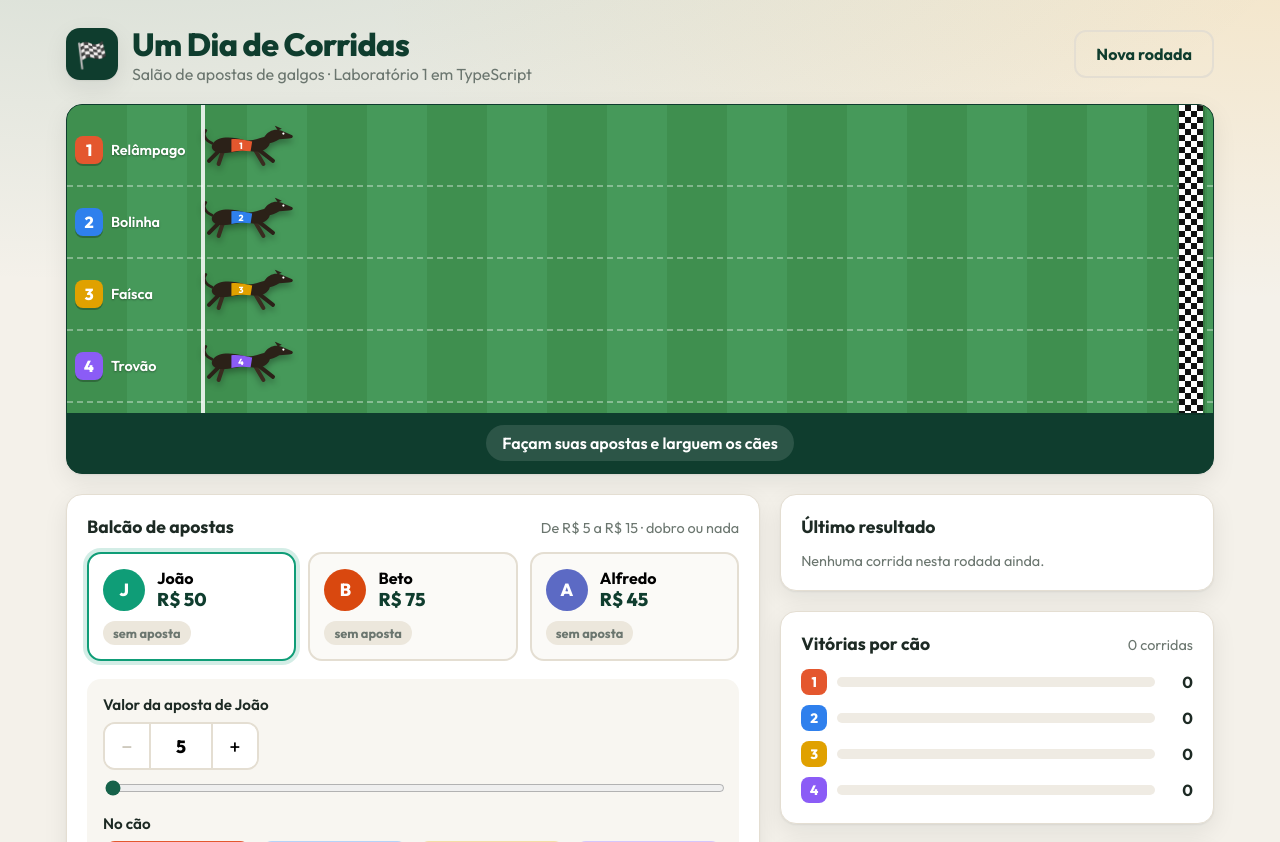
Scenario: balcão de apostas › valores digitados fora de R$ 5 a R$ 15 são corrigidos para o limite
Replace the text in the number field with "20" at (181, 746), box [149, 724, 213, 768]
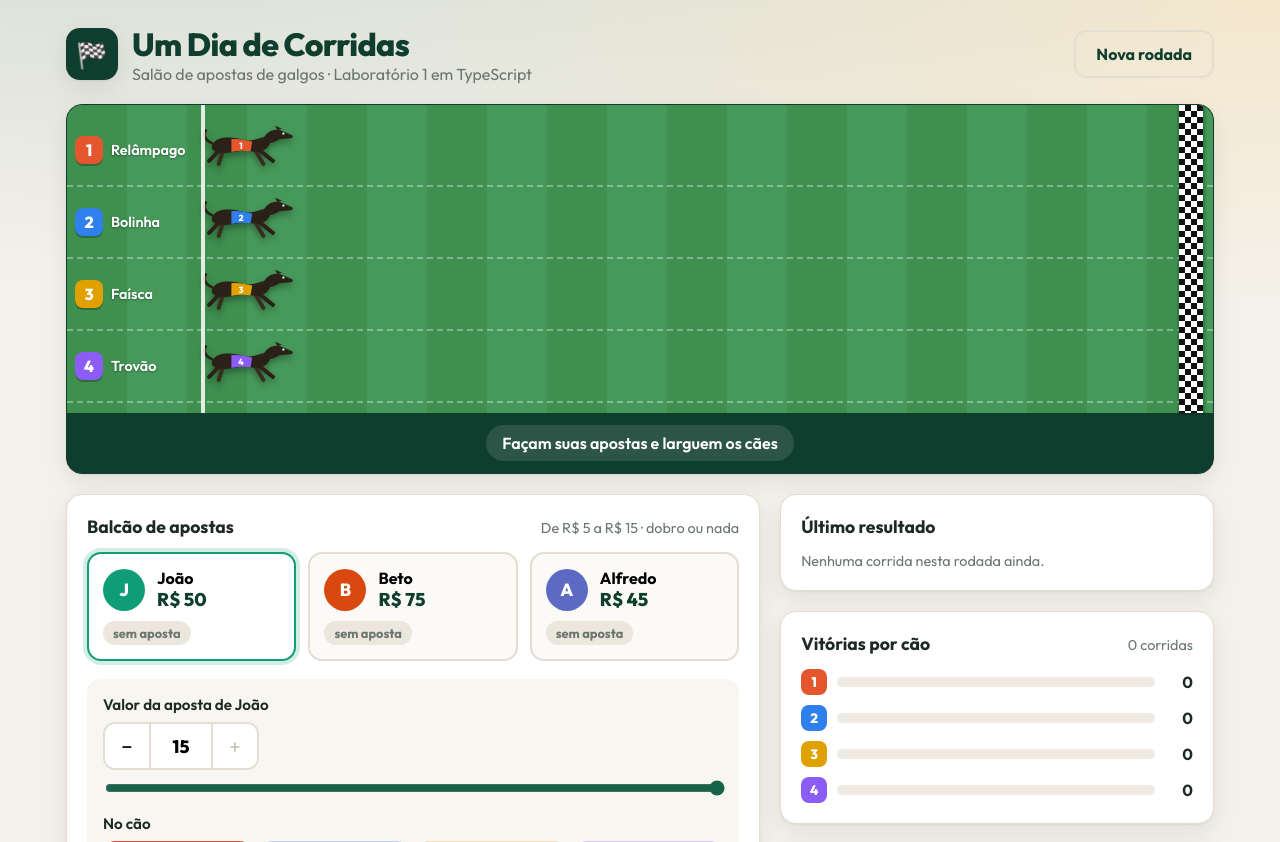
Check: the number field holds "15"
Replace the text in the number field with "1" at (181, 746), box [149, 724, 213, 768]
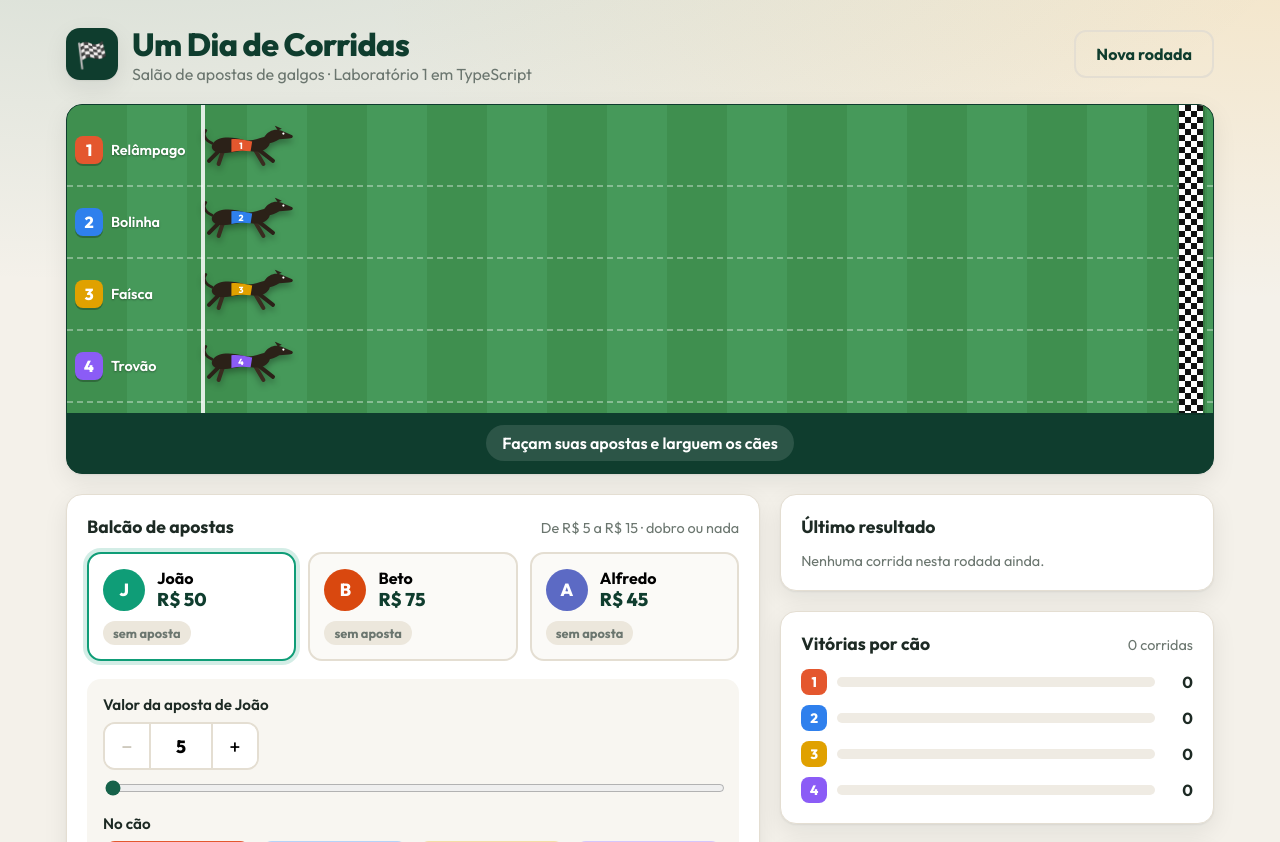
Check: the number field holds "5", box [149, 724, 213, 768]
Set the slider named "Valor da aposta" to "9" at (355, 788), box [105, 780, 725, 796]
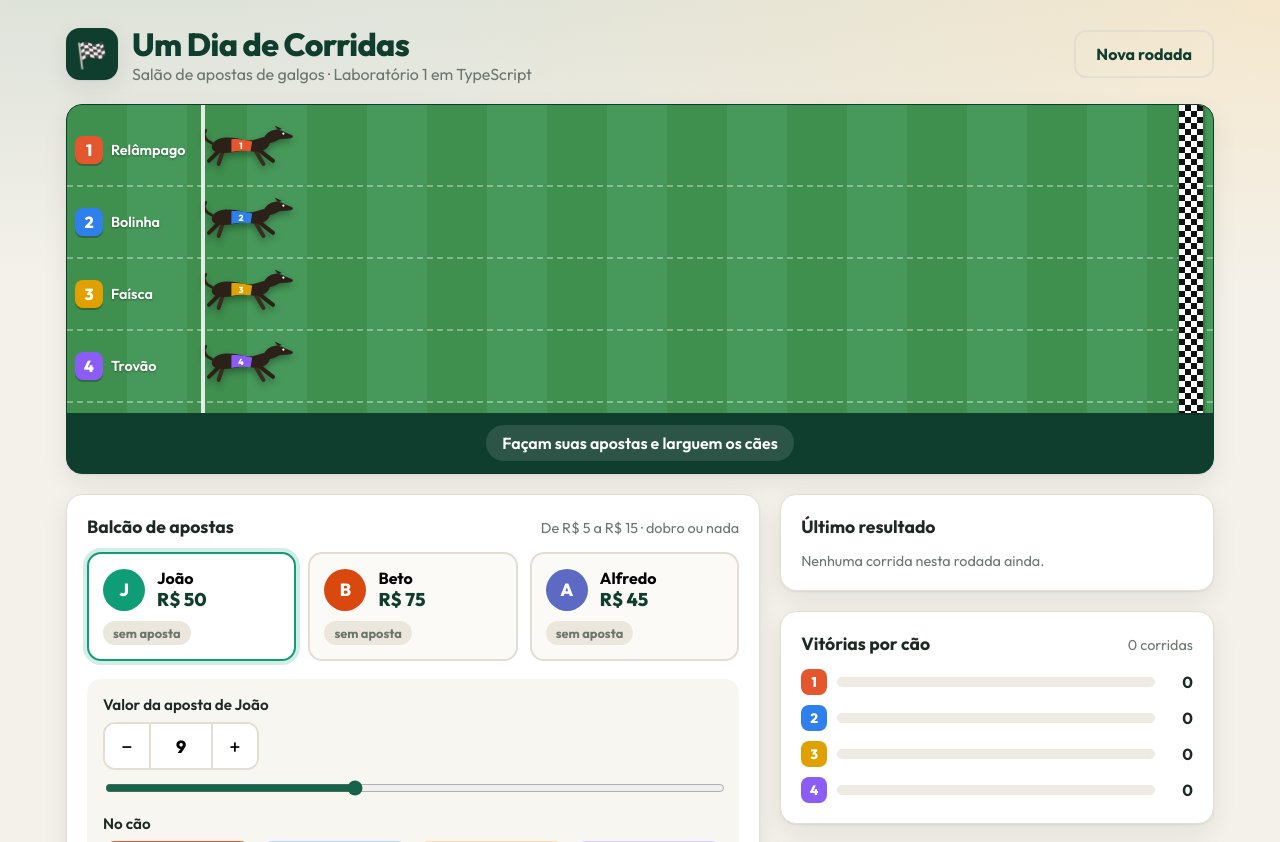
Check: the number field holds "9", box [149, 724, 213, 768]
